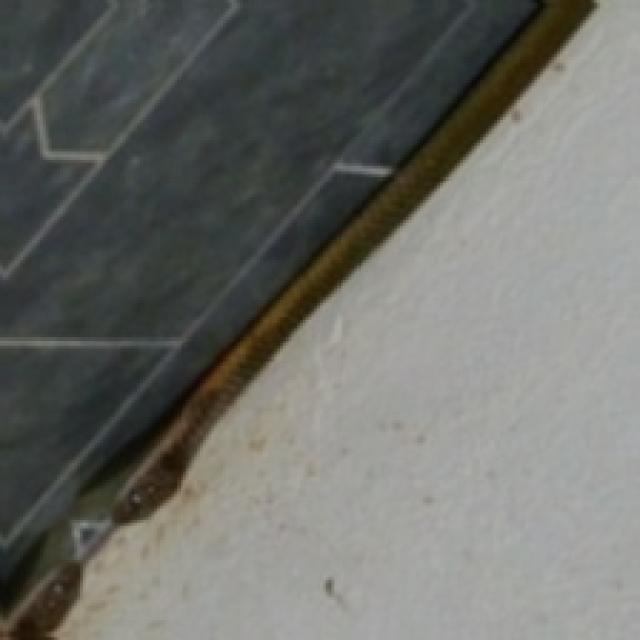king cobra: (109, 0, 591, 526)
